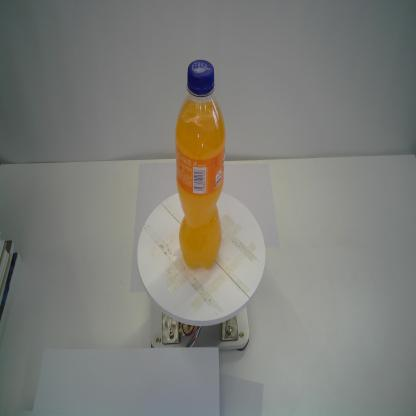Drink: (171, 55, 227, 272)
